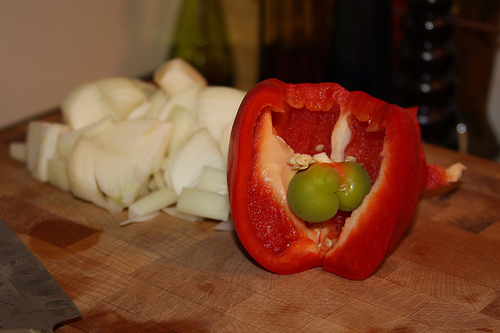capsicum: (227, 76, 426, 283)
